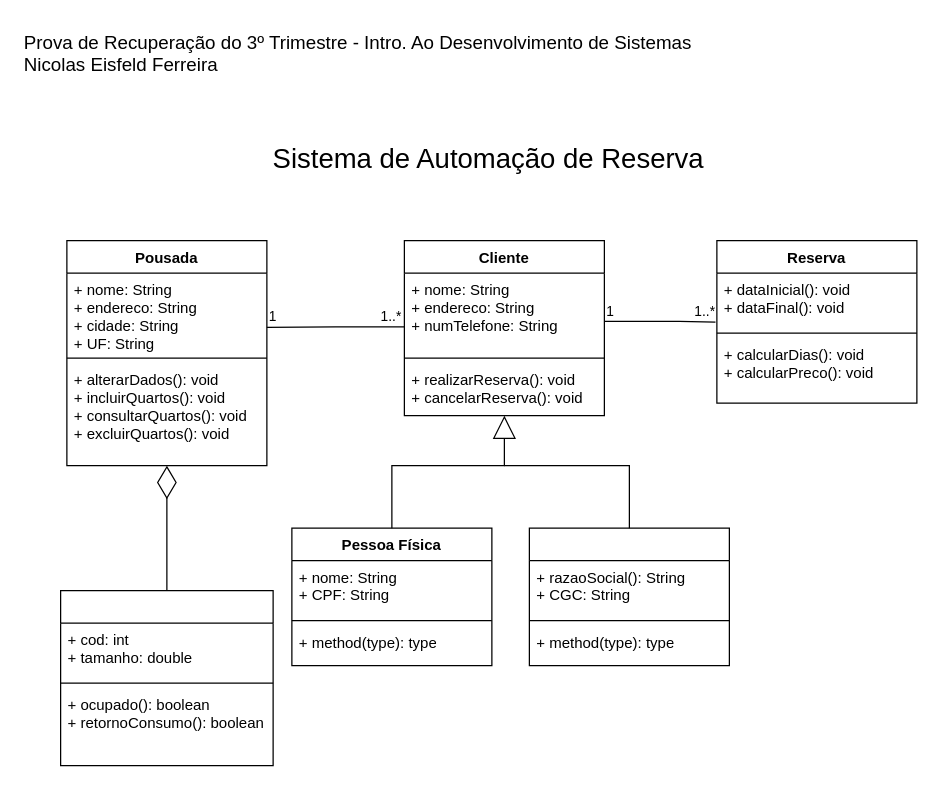
Image size: 939x790. Some labels were removed from this diagram. Here are the shapes that lost their labels. From the top down, the box of each, then its label:
(528, 527, 729, 666): Pessoa jurítica
(59, 589, 273, 766): Quartos
